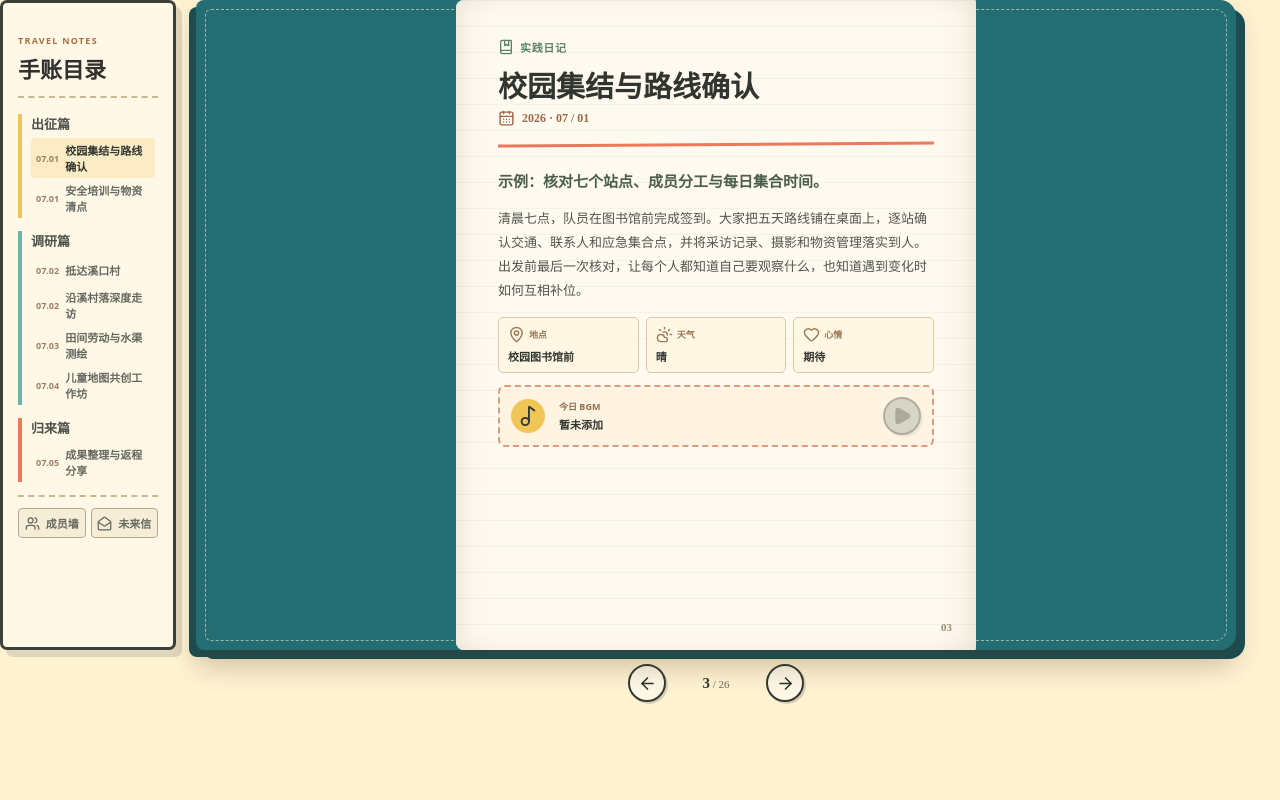
Test case: turns additional members onto the next member page
Click the button "成员墙" at (52, 523), box top-left (18, 508), bottom-right (86, 538)
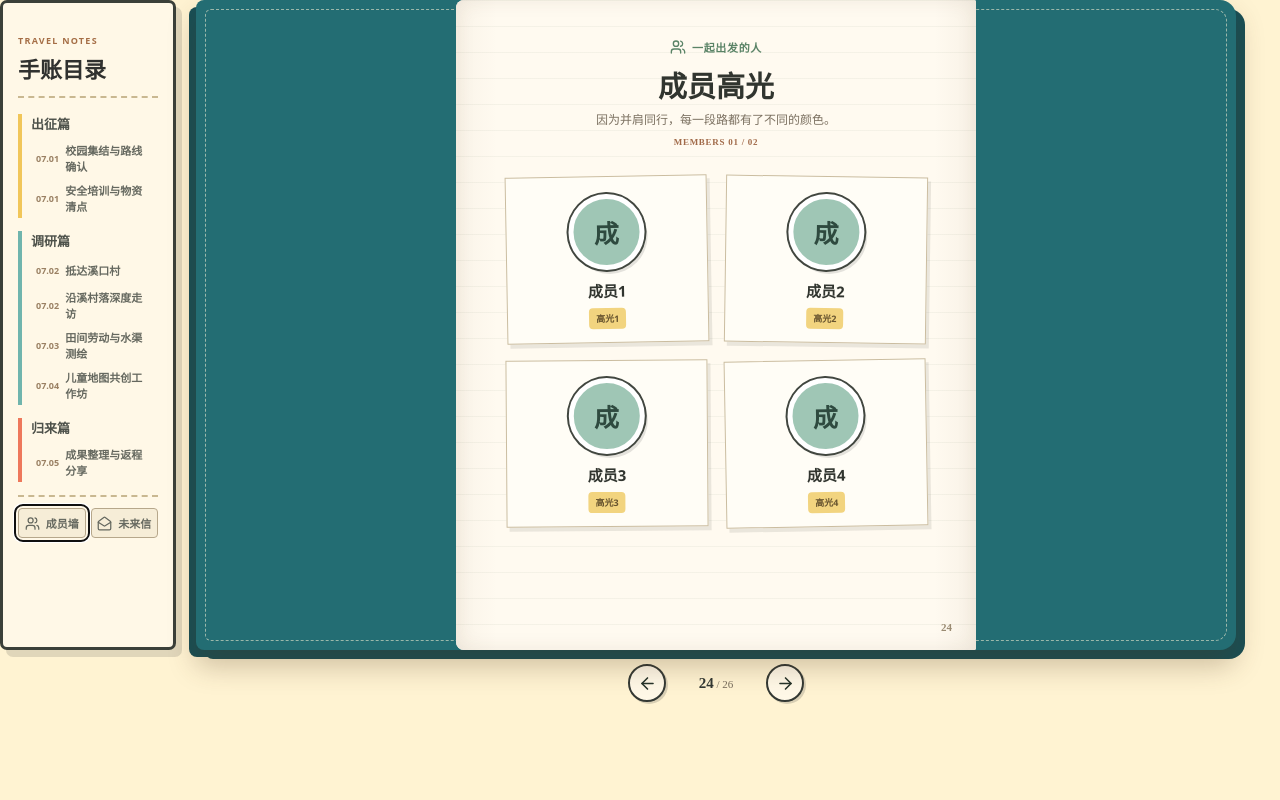
Expected: the text "成员5" is not shown
Now the element named "成员高光，第 1 / 2 页" is shown, box top-left (456, 0), bottom-right (976, 650)
Click the button named "下一页" at (785, 683), box top-left (766, 664), bottom-right (804, 702)
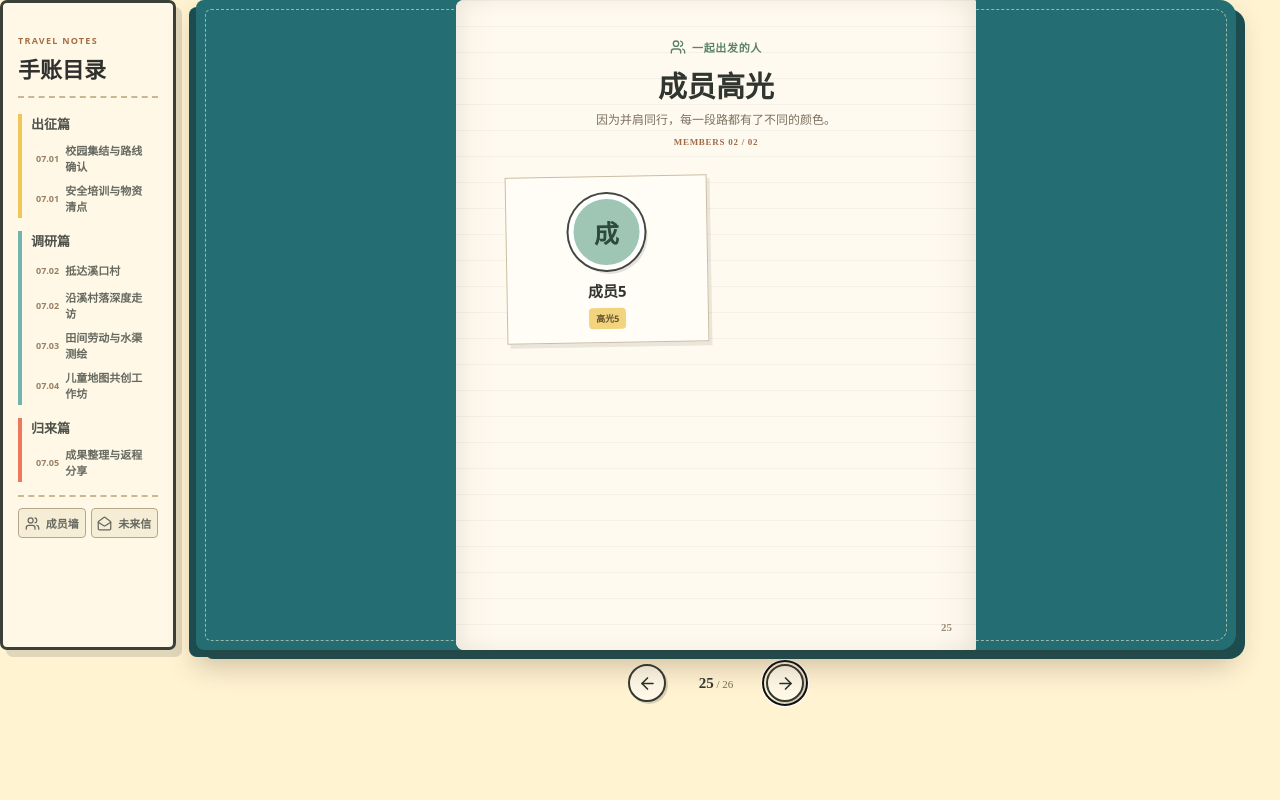
Now the element named "成员高光，第 2 / 2 页" is shown, box top-left (456, 0), bottom-right (976, 650)
Now the heading "成员5" is shown, box top-left (588, 280), bottom-right (627, 302)
